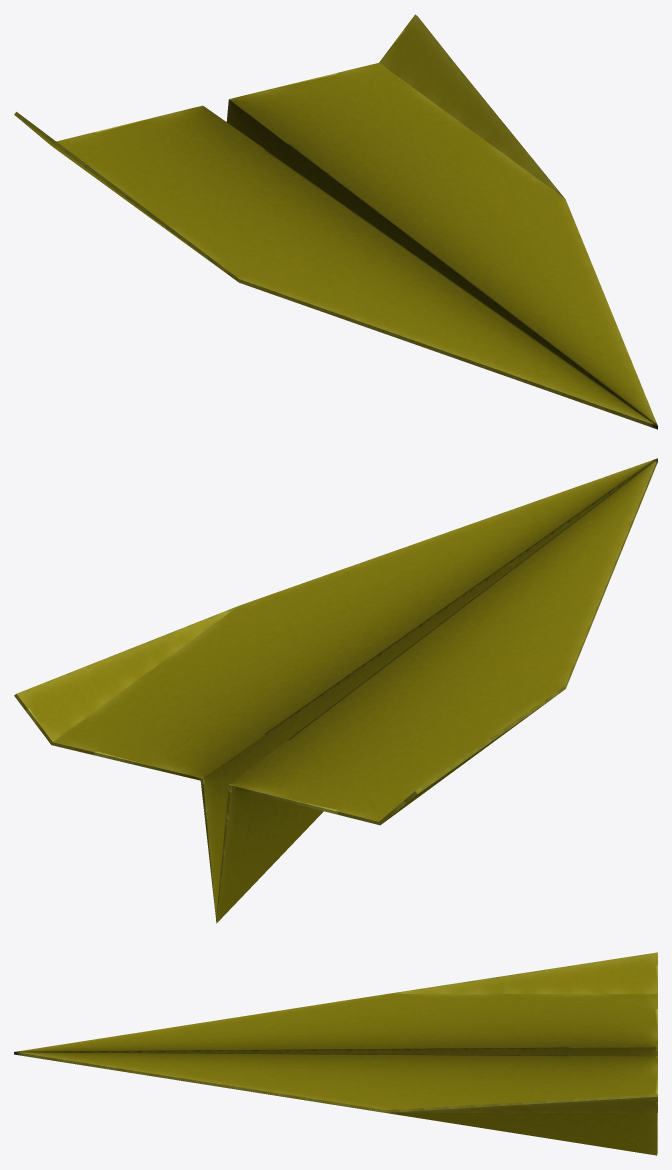
File: Air_Plane_02.fbx
3 renders of one model, top to bottom at view 1: azimuth 30°, elevation 25°; view 2: azimuth 150°, elevation 25°; view 3: azimuth 270°, elevation 25°, orthographic. The views are drawn at different scales.
Visible parts, largest first — view 1: Air_Plane_02; view 2: Air_Plane_02; view 3: Air_Plane_02.
Part boxes in pixels (box(x1,y1,x2,y2)): Air_Plane_02: box(14, 14, 657, 429); Air_Plane_02: box(14, 458, 657, 923); Air_Plane_02: box(14, 952, 657, 1155).
Bounding box in the file's own units: 50.14 × 21.58 × 95.11.
